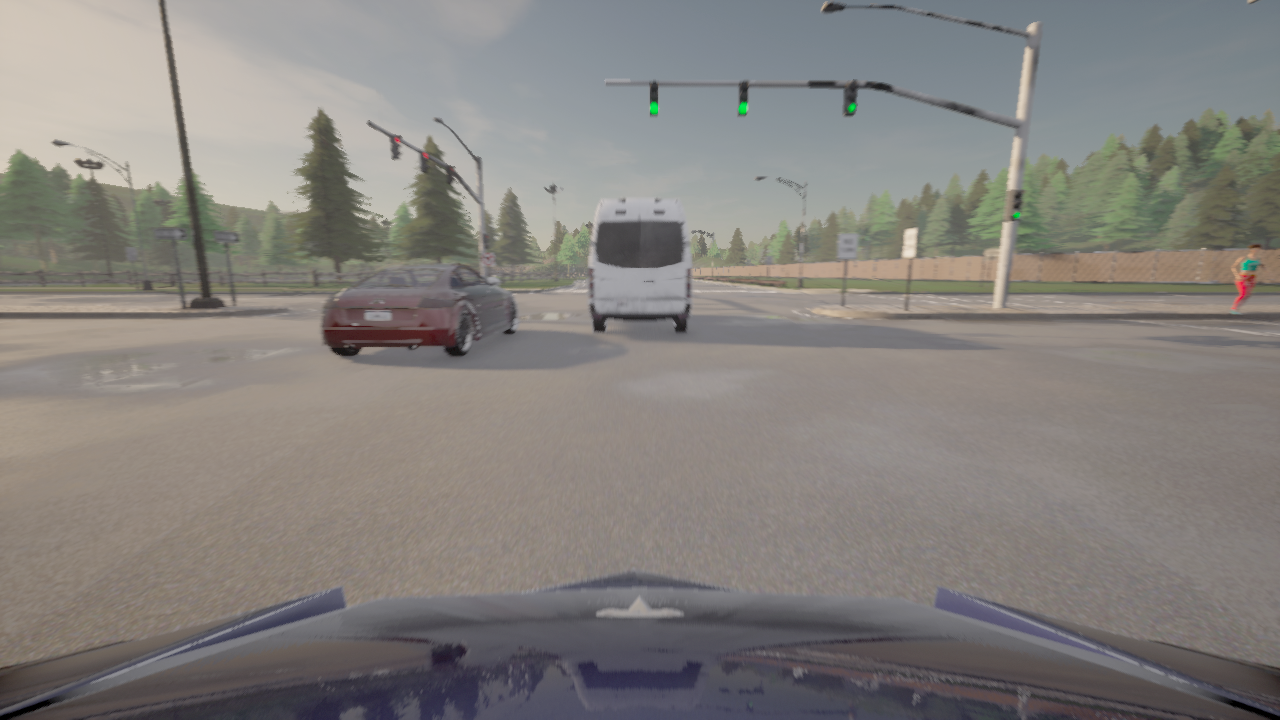cyclist: (0, 569, 1279, 719), (320, 263, 518, 355), (588, 198, 691, 332)
pedestrian: (1229, 243, 1271, 315)
